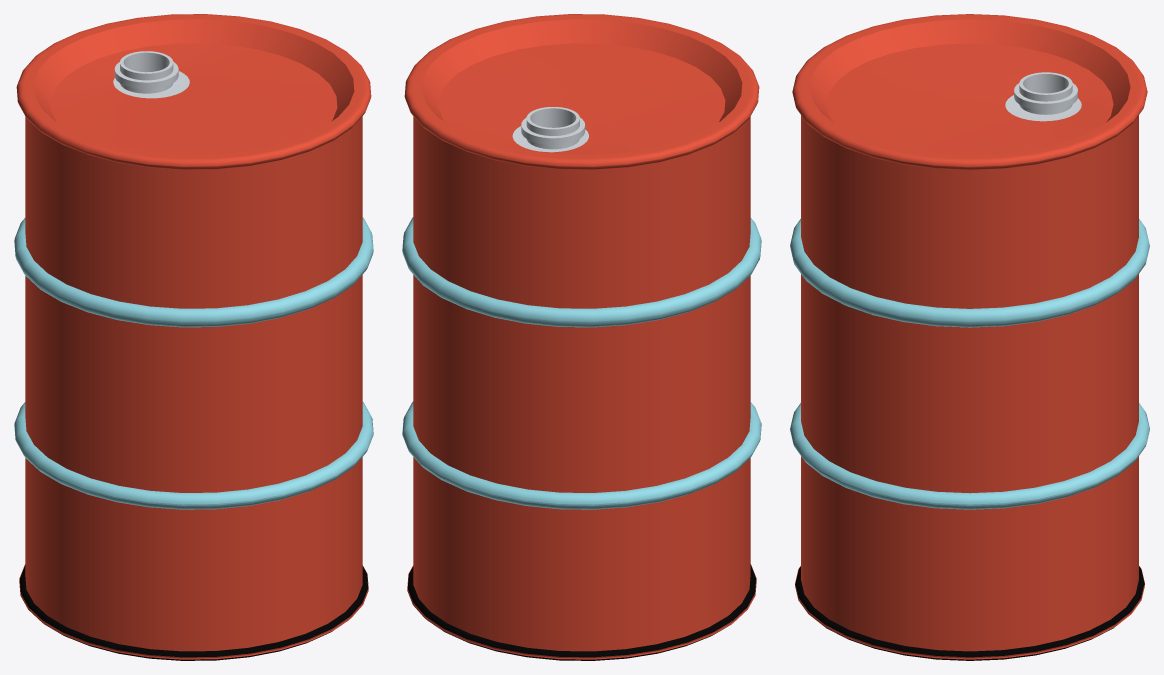
Rendered from Barrel.fbx.
3 renders of one model, left to right at view 1: azimuth 30°, elevation 25°; view 2: azimuth 150°, elevation 25°; view 3: azimuth 270°, elevation 25°, orthographic.
Visible parts, largest first — view 1: Cylinder; view 2: Cylinder; view 3: Cylinder.
Boxes of the visible parts, <box> form: Cylinder: <box>14,14,373,660</box>; Cylinder: <box>402,14,761,660</box>; Cylinder: <box>790,14,1149,660</box>.
Bounding box in the file's own units: 213 × 328 × 213.
